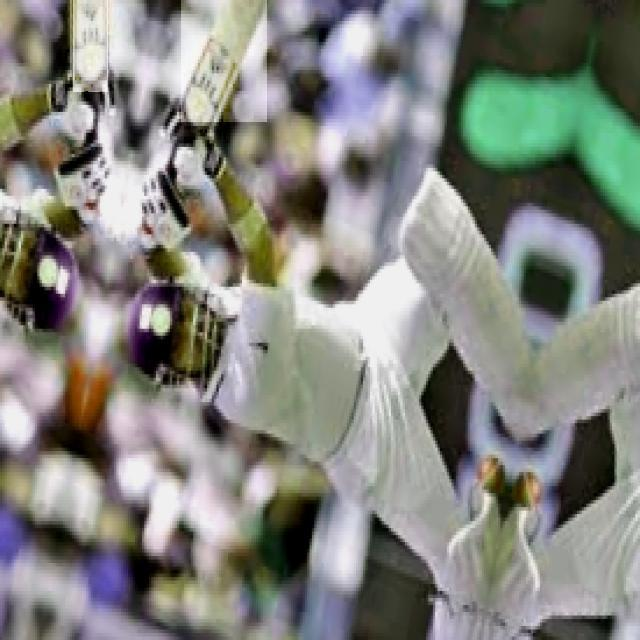bat: (180, 0, 269, 123)
